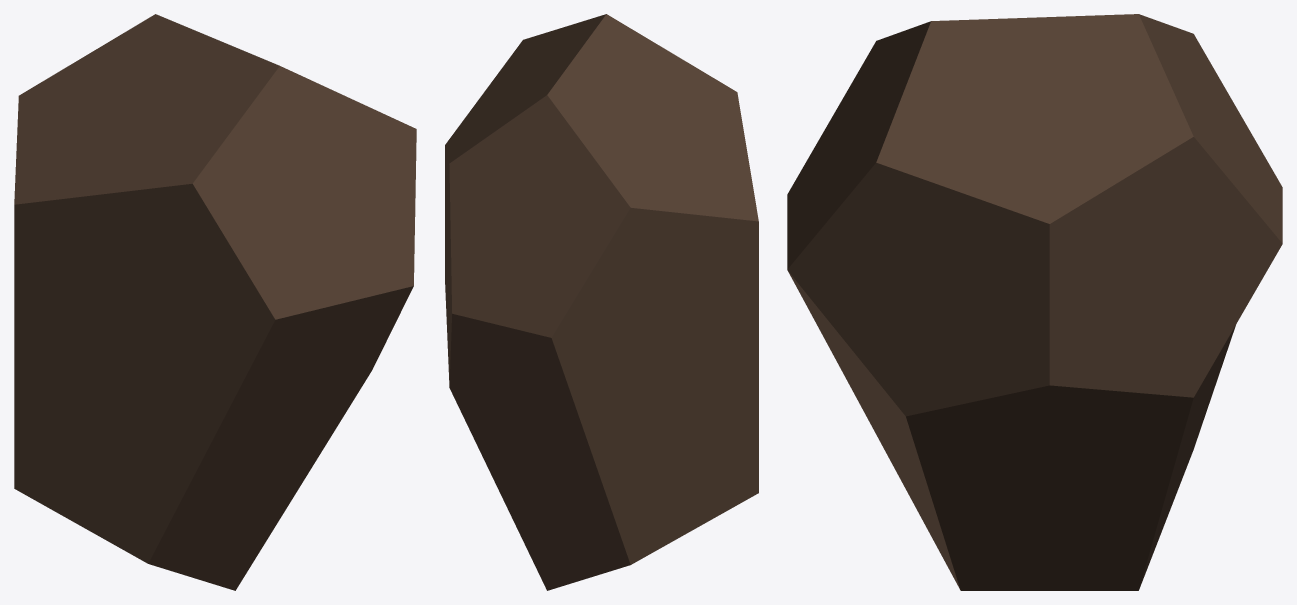
Rendered from Rock_Floor1_Shard3.fbx.
The picture shows the model from 3 angles, left to right: view 1: azimuth 30°, elevation 25°; view 2: azimuth 150°, elevation 25°; view 3: azimuth 270°, elevation 25°; orthographic projection. The views are drawn at different scales.
Visible parts, largest first — view 1: Rock_Floor1_Shard3; view 2: Rock_Floor1_Shard3; view 3: Rock_Floor1_Shard3.
Boxes of the visible parts, x1,y1,x2,y2 form: Rock_Floor1_Shard3: (14, 14, 416, 590); Rock_Floor1_Shard3: (445, 14, 758, 590); Rock_Floor1_Shard3: (787, 14, 1282, 590).
Bounding box in the file's own units: 49.05 × 75.35 × 57.67.
